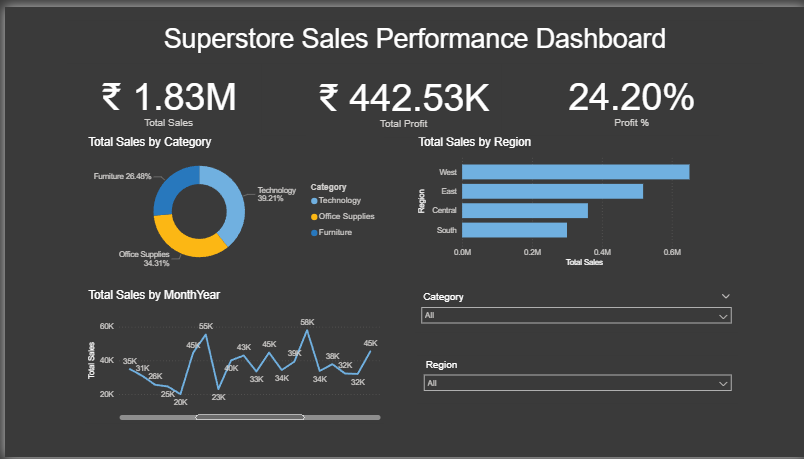

Layout of this report page (visuals, bound fields, positions):
{"tool":"powerbi","page":{"name":"Page 1","canvas":[1280,720],"ordinal":0},"visuals":[{"type":"lineChart","fields":{"Category":["Superstore_Cleaned.MonthYear"],"Y":["Superstore_Cleaned.Total Sales"]},"box":[128,450,478,216],"z":0},{"type":"clusteredBarChart","fields":{"Category":["Superstore_Cleaned.Region"],"Y":["Superstore_Cleaned.Total Sales"]},"box":[656,206,486,214],"z":1000},{"type":"donutChart","fields":{"Category":["Superstore_Cleaned.Category"],"Y":["Superstore_Cleaned.Total Sales"]},"box":[128,206,478,222],"z":2000},{"type":"slicer","fields":{"Values":["Superstore_Cleaned.Region"]},"box":[660,558,512,76],"z":3000},{"type":"slicer","fields":{"Values":["Superstore_Cleaned.Category"]},"box":[656,450,516,70],"z":4000},{"type":"card","fields":{"Values":["Superstore_Cleaned.Total Sales"]},"box":[114,90,296,116],"z":5000},{"type":"card","fields":{"Values":["Superstore_Cleaned.Total Profit"]},"box":[482,90,312,118],"z":6000},{"type":"card","fields":{"Values":["Superstore_Cleaned.Profit %"]},"box":[882,90,242,116],"z":7000},{"type":"textbox","box":[100,22,1112,68],"z":7001}]}

Visuals, with their boxes in screenshot pixels (x1, y1, x2, y2), scaled from the page's 1280x720 canvas onto the 804x459 screenshot:
lineChart - Superstore_Cleaned.MonthYear x Superstore_Cleaned.Total Sales: x1=80, y1=287, x2=381, y2=425
clusteredBarChart - Superstore_Cleaned.Region x Superstore_Cleaned.Total Sales: x1=412, y1=131, x2=717, y2=268
donutChart - Superstore_Cleaned.Category x Superstore_Cleaned.Total Sales: x1=80, y1=131, x2=381, y2=273
slicer - Superstore_Cleaned.Region: x1=415, y1=356, x2=736, y2=404
slicer - Superstore_Cleaned.Category: x1=412, y1=287, x2=736, y2=332
card - Superstore_Cleaned.Total Sales: x1=72, y1=57, x2=258, y2=131
card - Superstore_Cleaned.Total Profit: x1=303, y1=57, x2=499, y2=133
card - Superstore_Cleaned.Profit %: x1=554, y1=57, x2=706, y2=131
textbox: x1=63, y1=14, x2=761, y2=57
